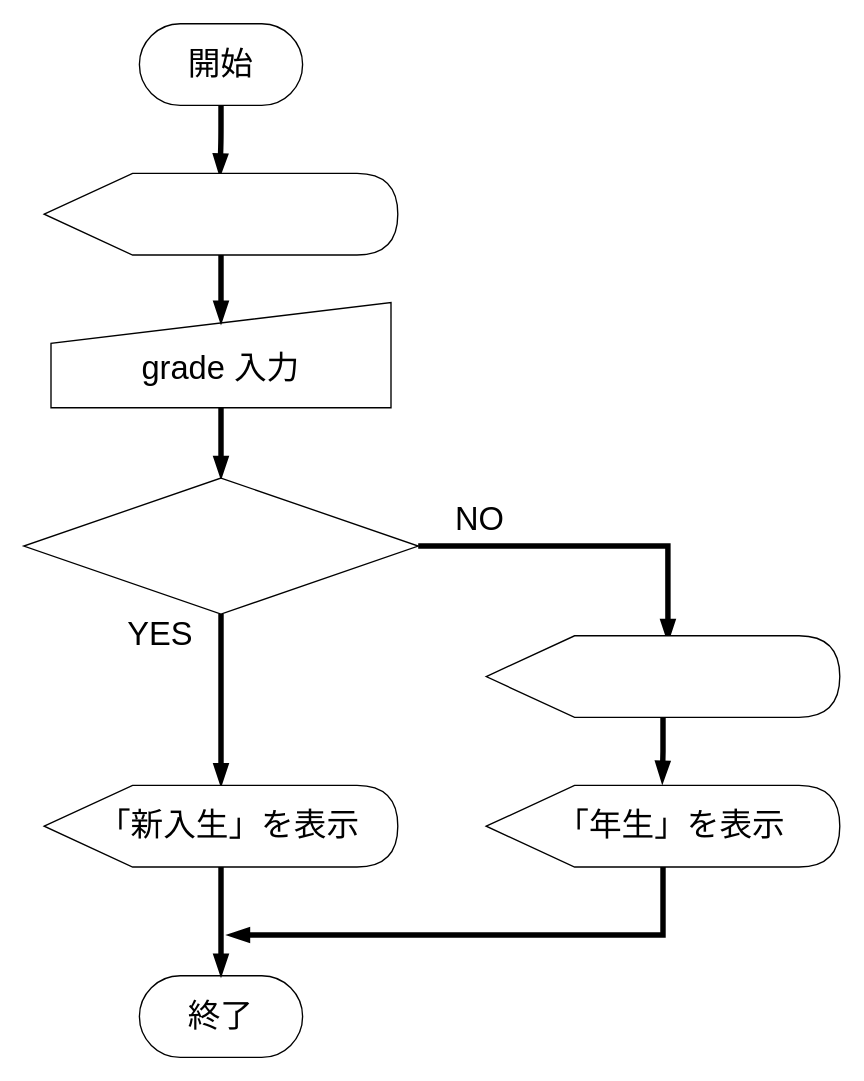
This 864x1081 diagram has some shape labels left out. The shapes that lost their labels are listed below. From the top down, each one's centre as x and y in pixels, then its label:
At point 220,213: "「学年は？」を表示".
At point 220,545: "gradeが1と等しい".
At point 662,675: "gradeを表示 （改行なし）".
